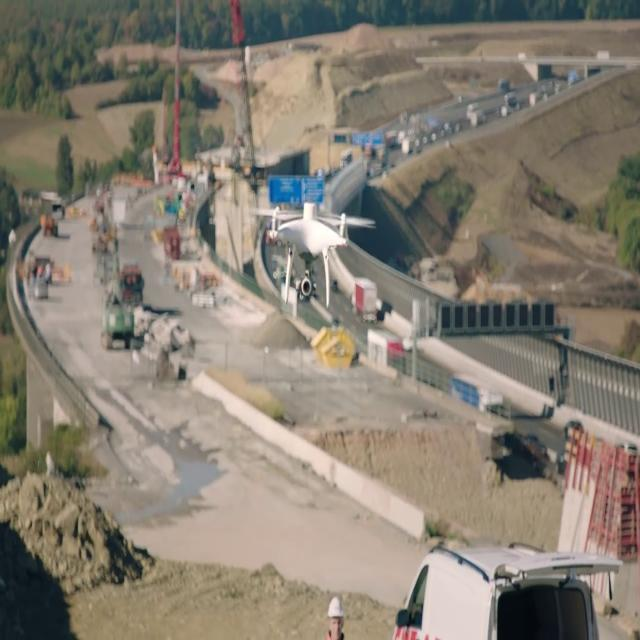drone: (252, 200, 376, 306)
